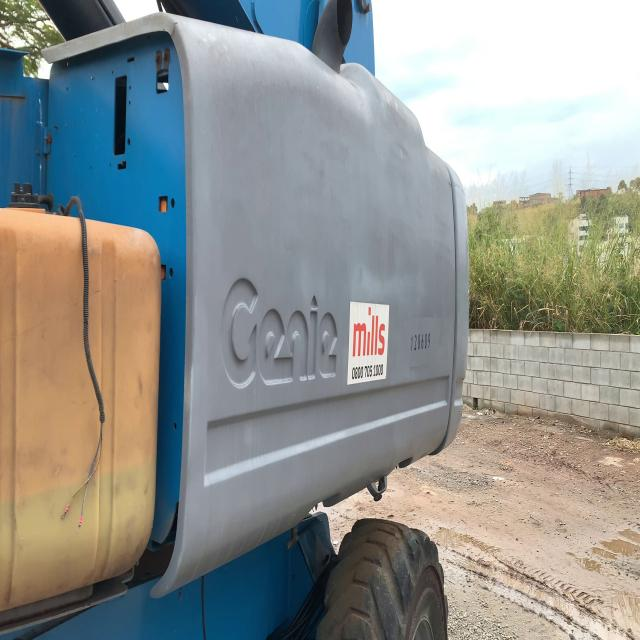Adesivos: (346, 299, 390, 386)
